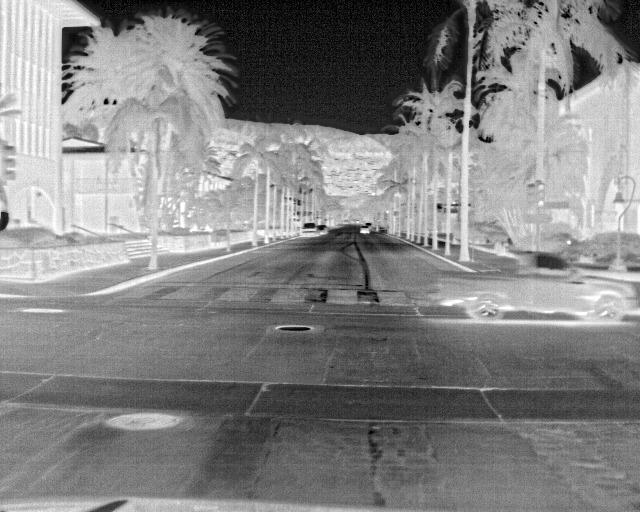car: (439, 253, 639, 322), (301, 223, 319, 238), (359, 226, 369, 234), (320, 225, 328, 234), (318, 226, 324, 235), (366, 223, 372, 229), (355, 220, 359, 224)
light: (7, 145, 15, 181), (538, 184, 544, 208), (528, 185, 534, 204)
sign: (547, 203, 567, 210), (528, 216, 551, 222)
